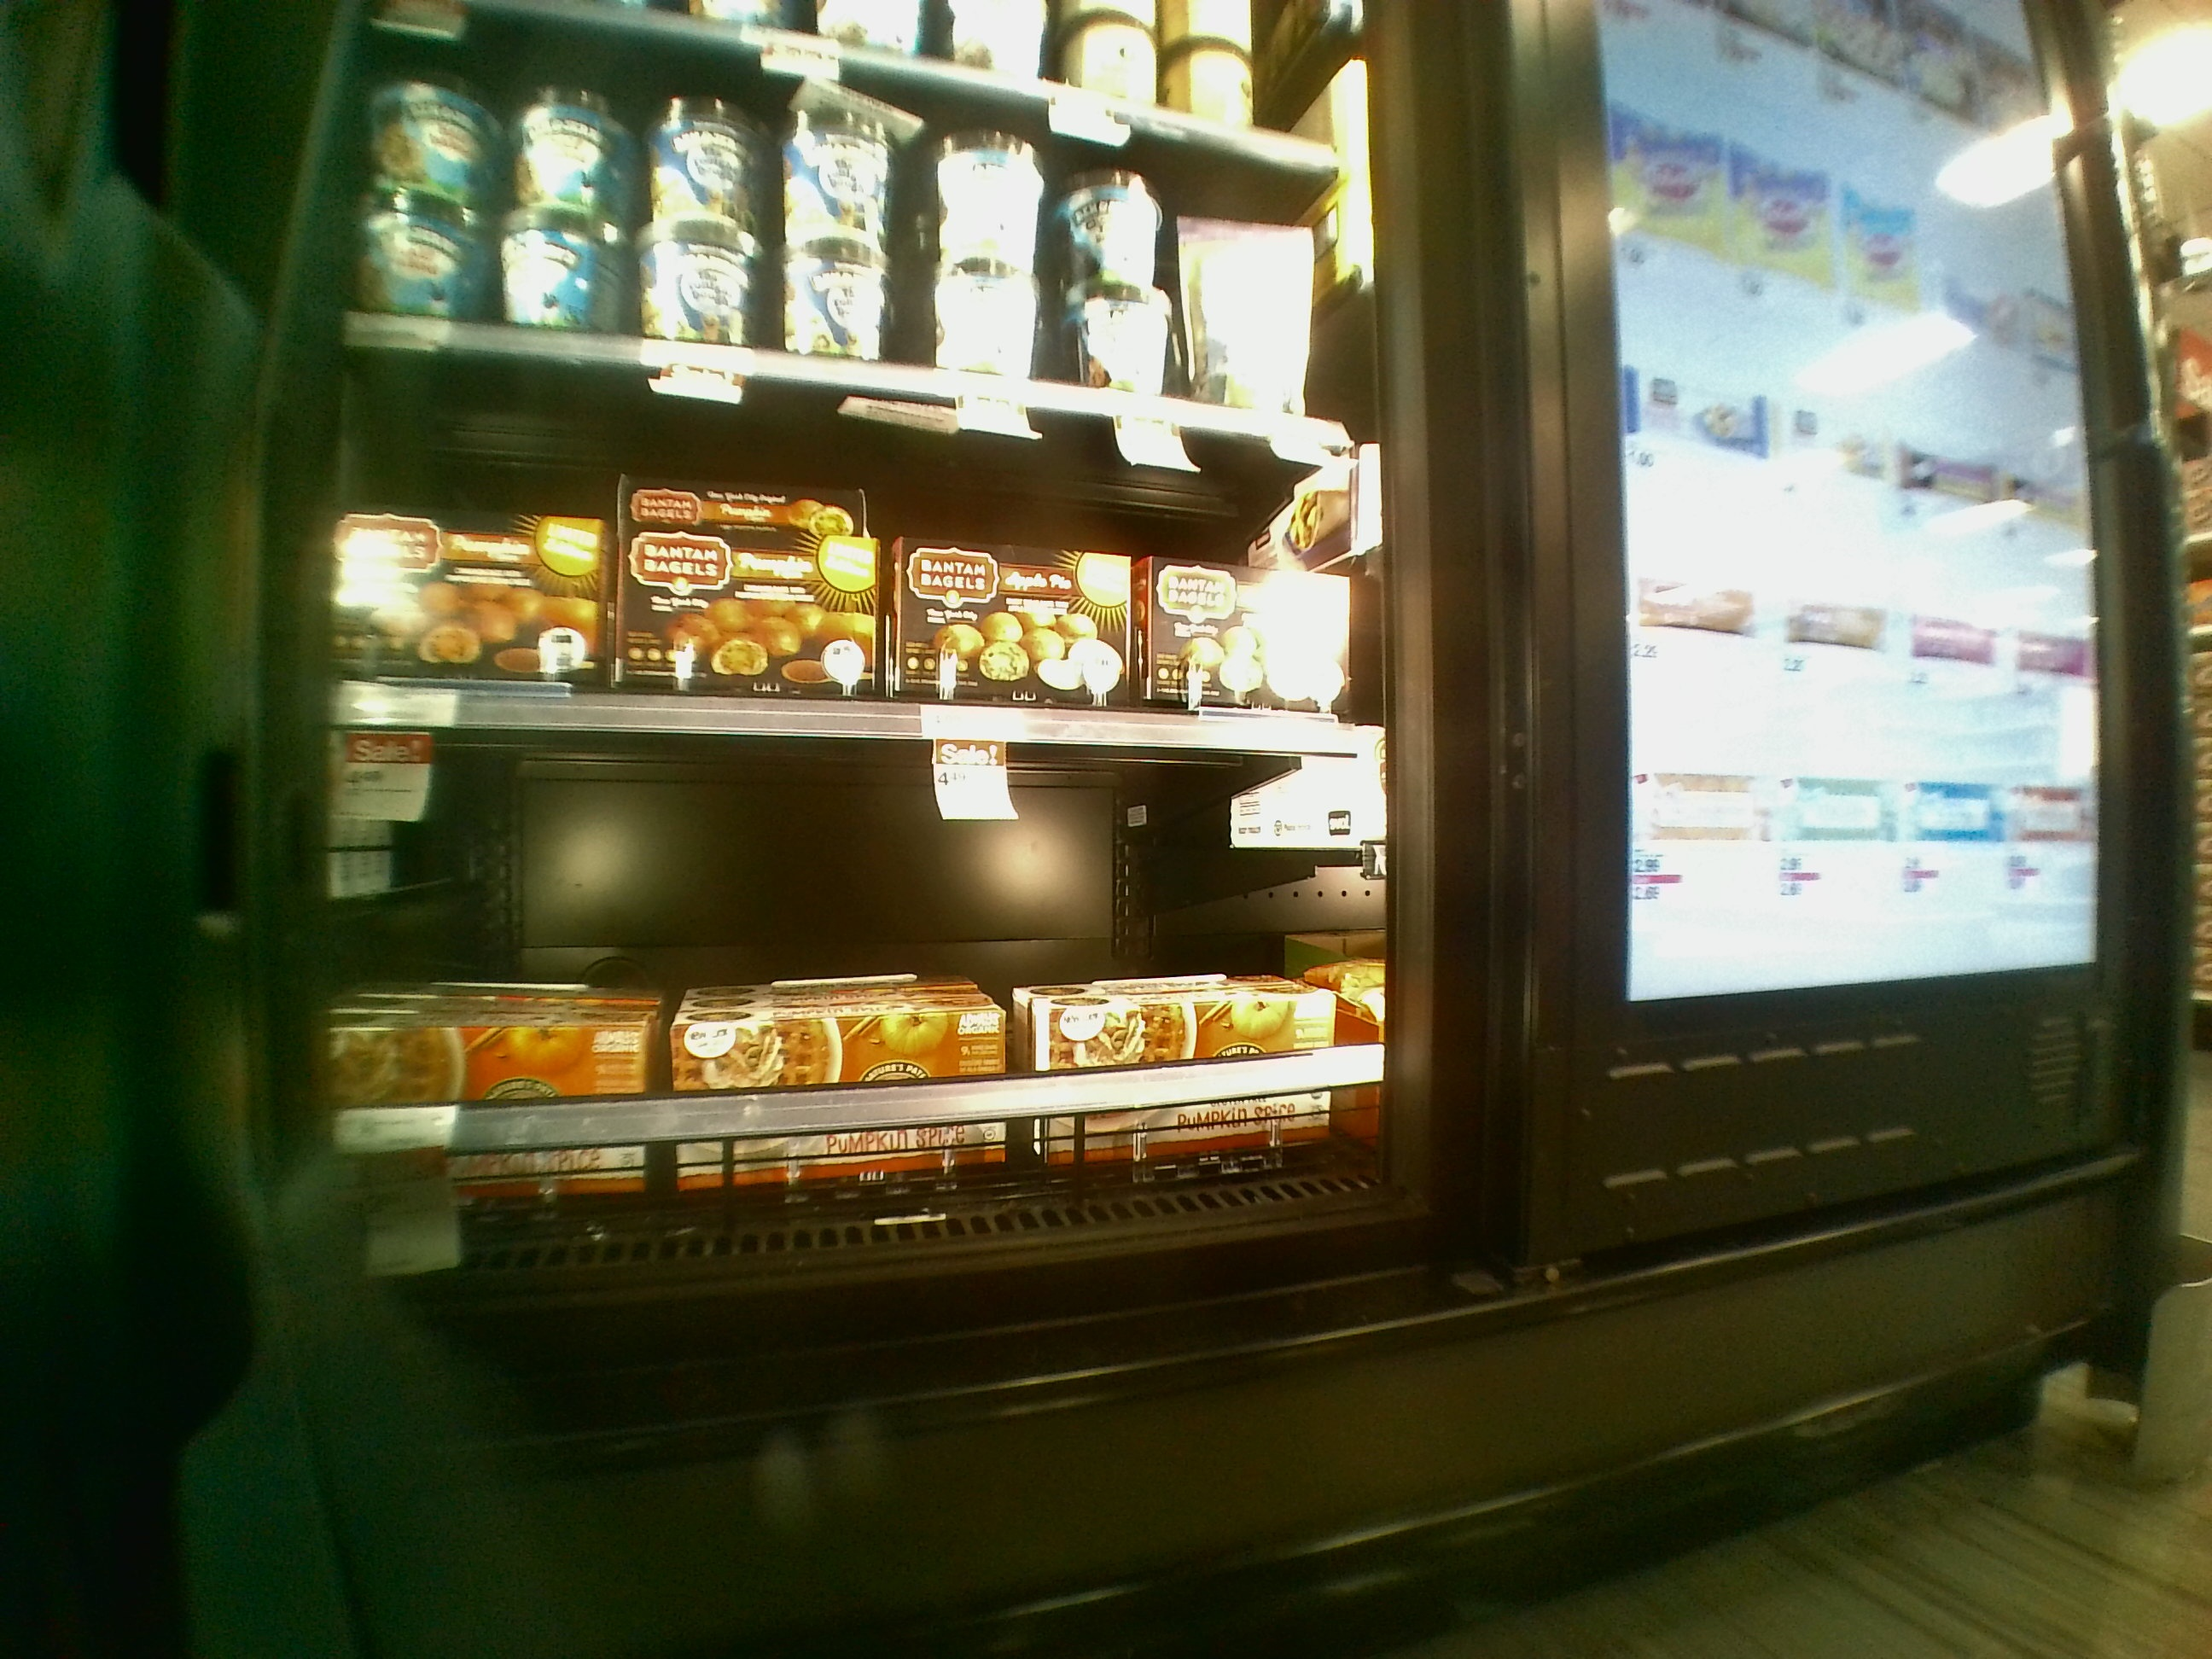shelf: (303, 755, 1416, 1236), (322, 354, 1390, 775)
